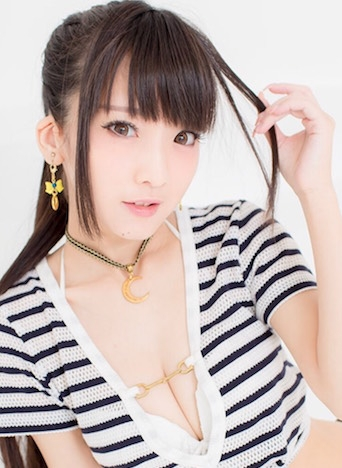face: (35, 49, 202, 239)
hand: (253, 82, 338, 195)
